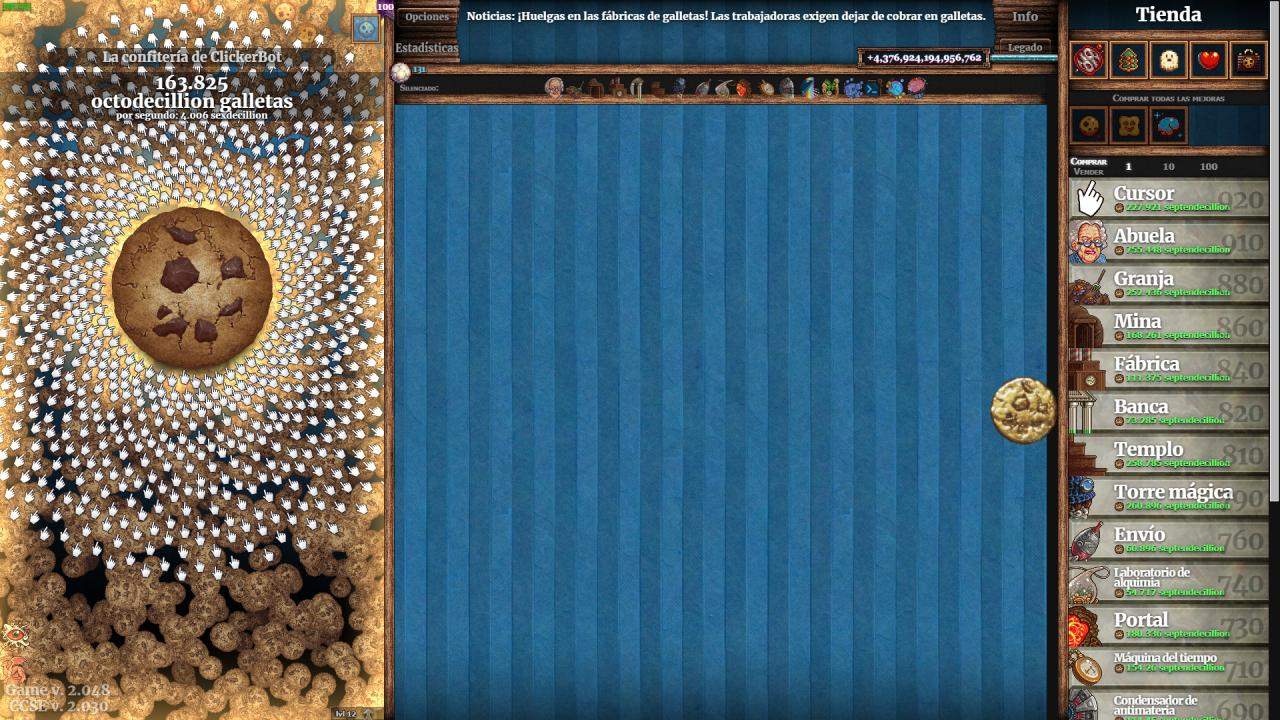GoldenCookie: (989, 375, 1061, 447)
